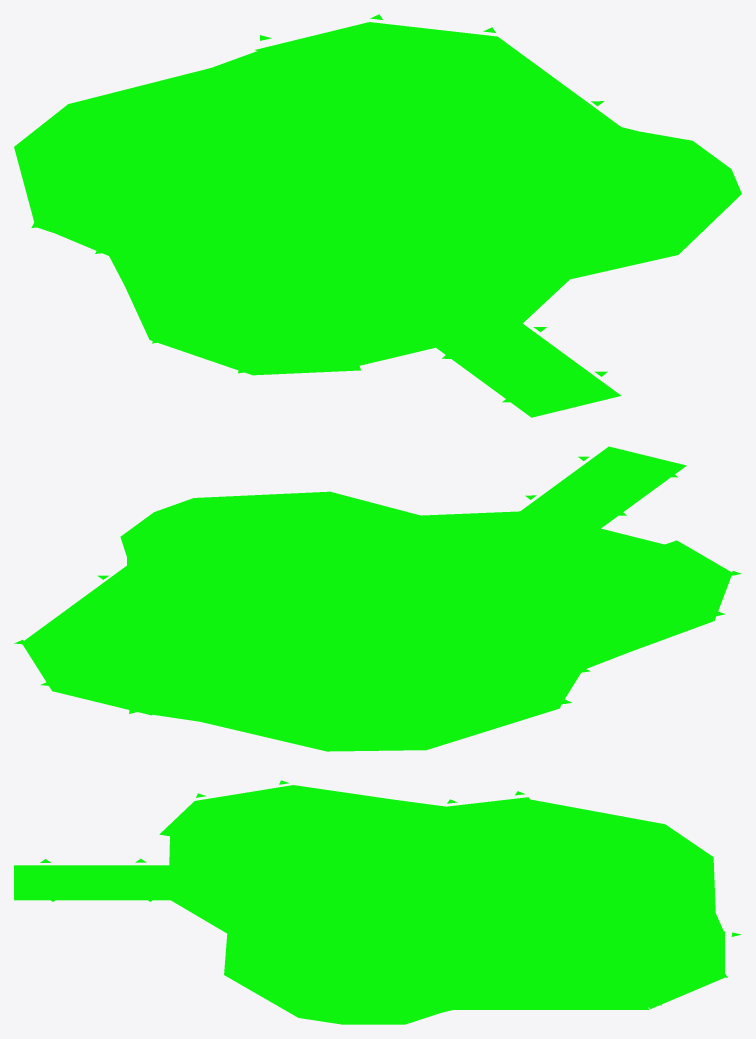
The model's file is s02b_nb2-floor.glb.
3 renders of one model, top to bottom at view 1: azimuth 30°, elevation 25°; view 2: azimuth 150°, elevation 25°; view 3: azimuth 270°, elevation 25°, orthographic. The views are drawn at different scales.
Visible parts, largest first — view 1: collision_floor-colonly; view 2: collision_floor-colonly; view 3: collision_floor-colonly.
Boxes of the visible parts, x1,y1,x2,y2 form: collision_floor-colonly: [14, 14, 741, 417]; collision_floor-colonly: [14, 446, 741, 751]; collision_floor-colonly: [14, 780, 741, 1024].
Size of the model in its own units: 41.25 by 0.416 by 52.76.
